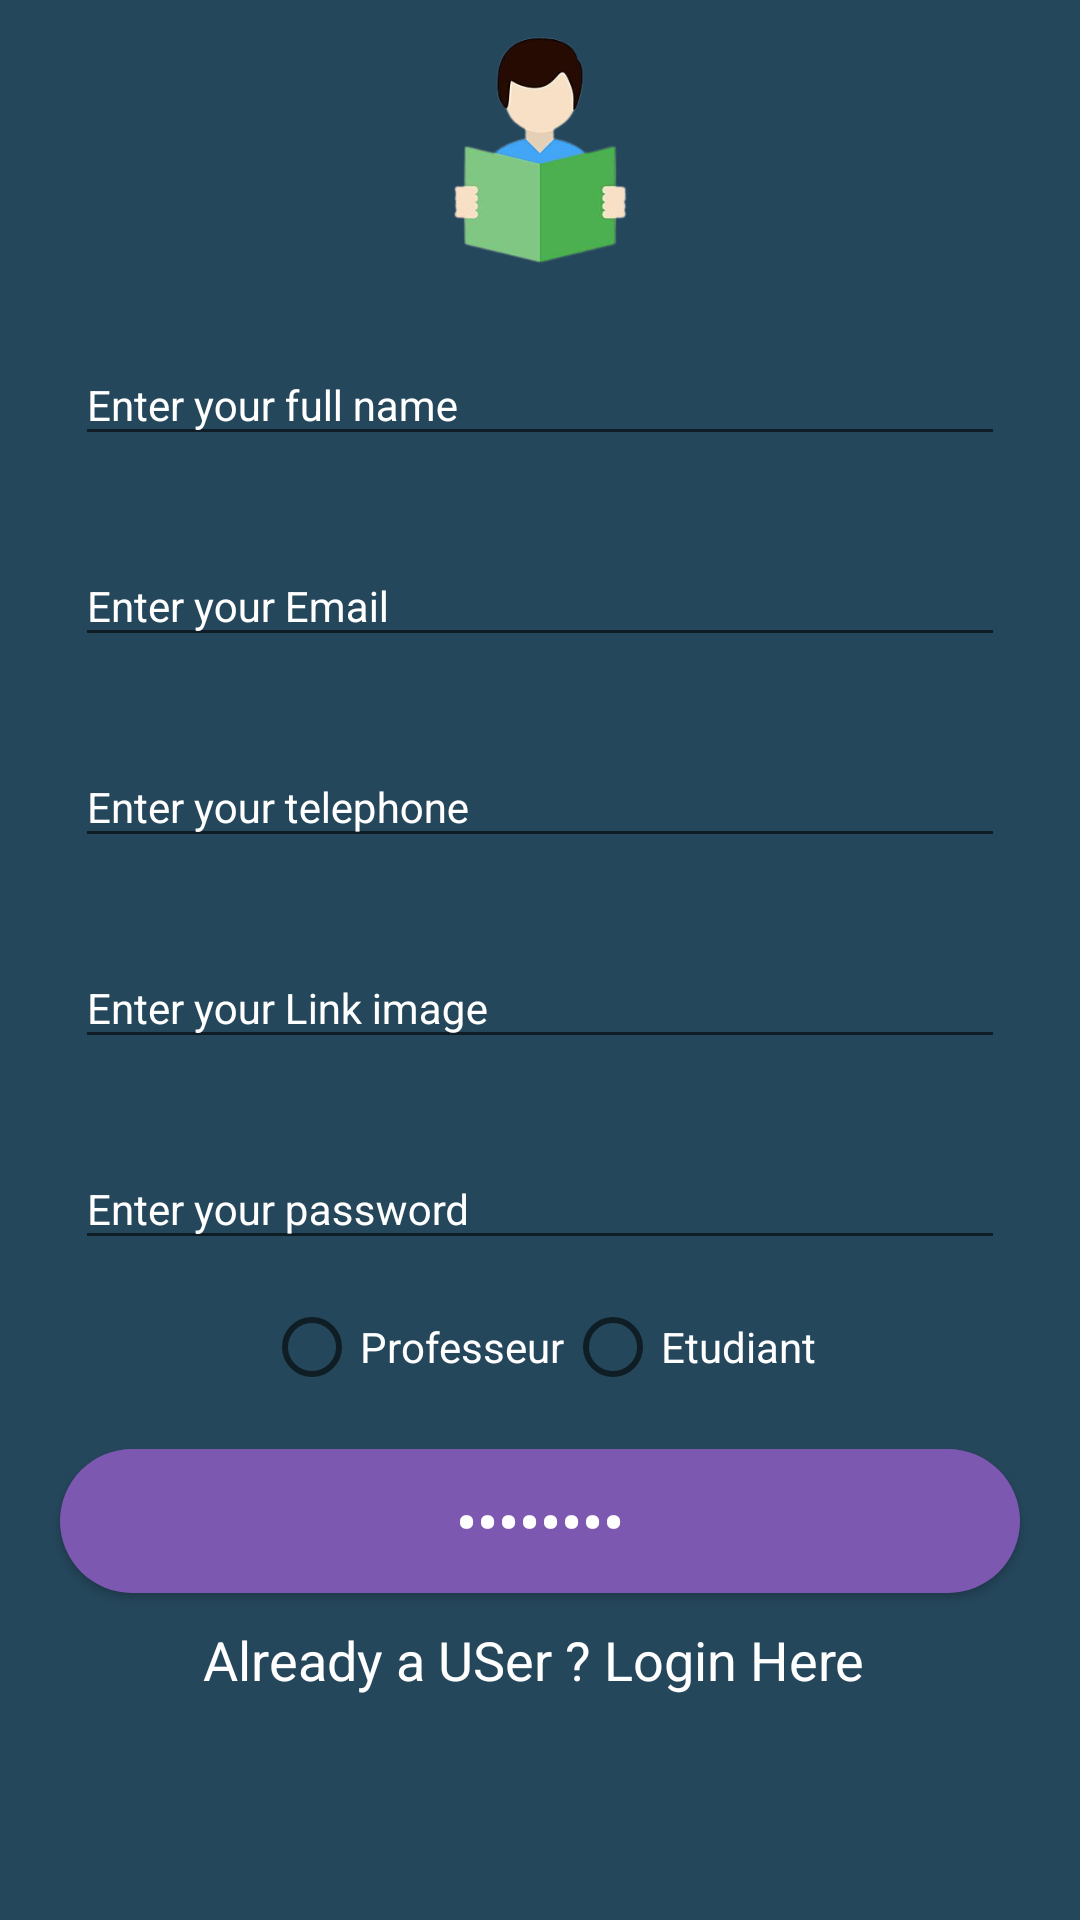

Named icons in this screenshot (1080px×1920px) and their bounding boxes, [x1, y1, x2, y2]:
userphoto: [454, 38, 626, 262]
